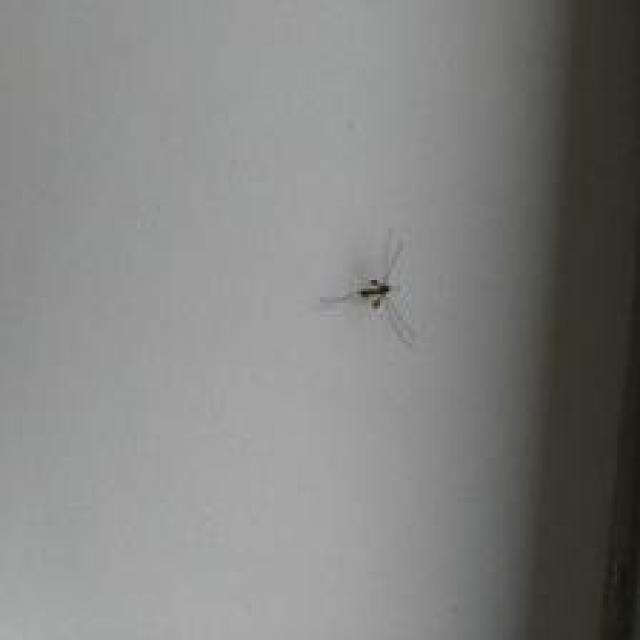Culex: (318, 227, 418, 347)
